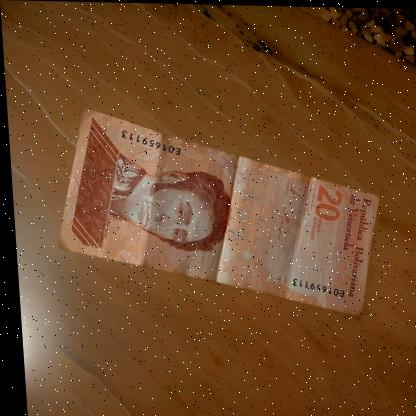twenty-front-vef: (110, 43, 328, 373)
